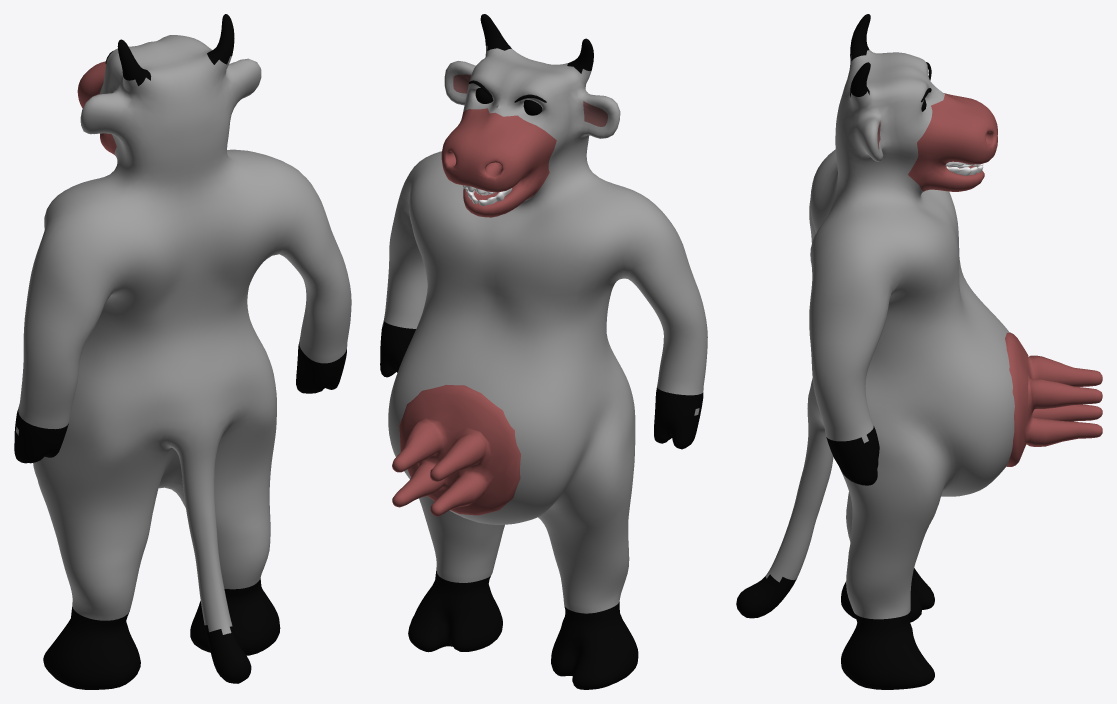
File: COW.FBX
3 views of the same model, side by side, from view 1: azimuth 30°, elevation 25°; view 2: azimuth 150°, elevation 25°; view 3: azimuth 270°, elevation 25° (orthographic). The views are drawn at different scales.
Parts seen in each view (by area): view 1: COW_LOW; view 2: COW_LOW; view 3: COW_LOW.
Boxes of the visible parts, x1,y1,x2,y2 form: COW_LOW: (14, 14, 351, 689); COW_LOW: (380, 14, 707, 689); COW_LOW: (736, 14, 1102, 689).
Bounding box in the file's own units: 2.03 × 3.84 × 2.1.
